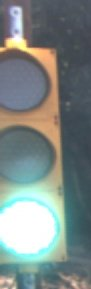Green: (2, 33, 74, 269)
